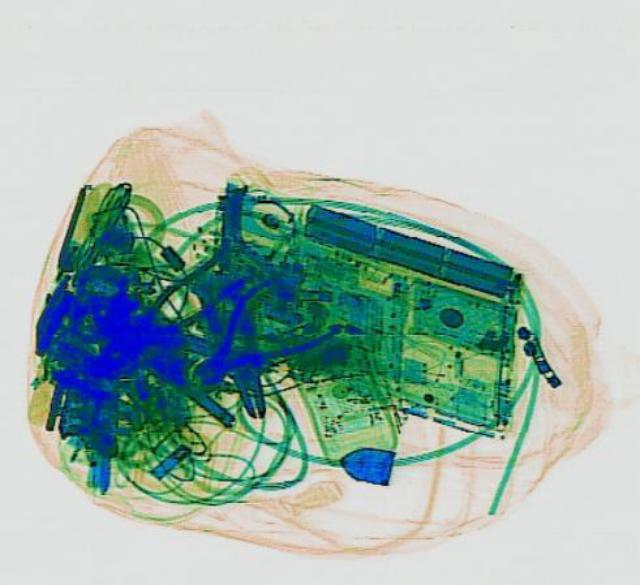Pliers: (165, 264, 342, 407), (90, 251, 250, 372), (190, 272, 278, 421)
